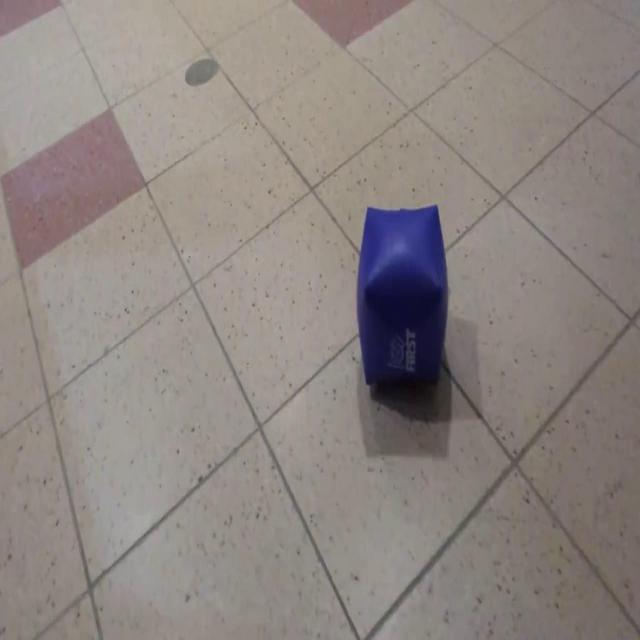frc_cube: (356, 204, 450, 390)
